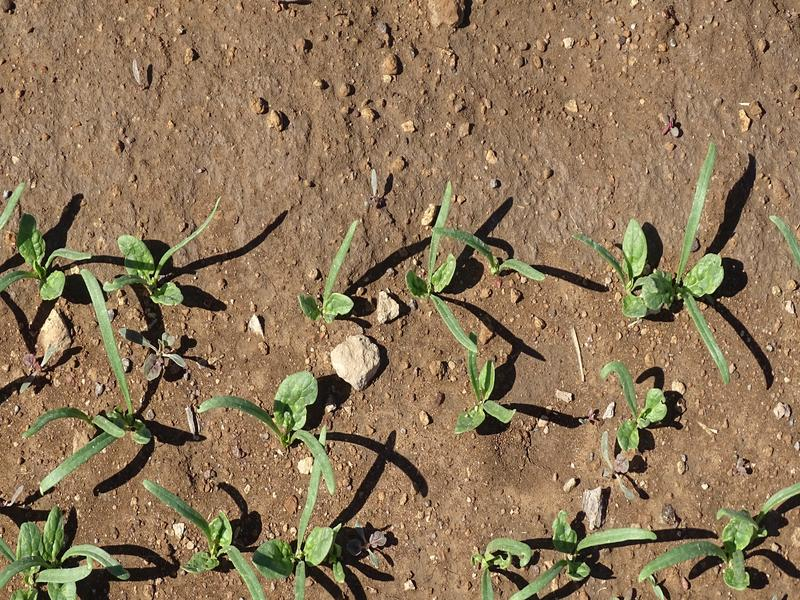Espinaca: (602, 146, 739, 385), (4, 183, 229, 306), (474, 506, 767, 596), (150, 484, 344, 593), (192, 372, 343, 490), (421, 195, 540, 340), (21, 373, 156, 483), (4, 503, 118, 596), (592, 364, 669, 453), (452, 353, 524, 442), (304, 219, 361, 321)
